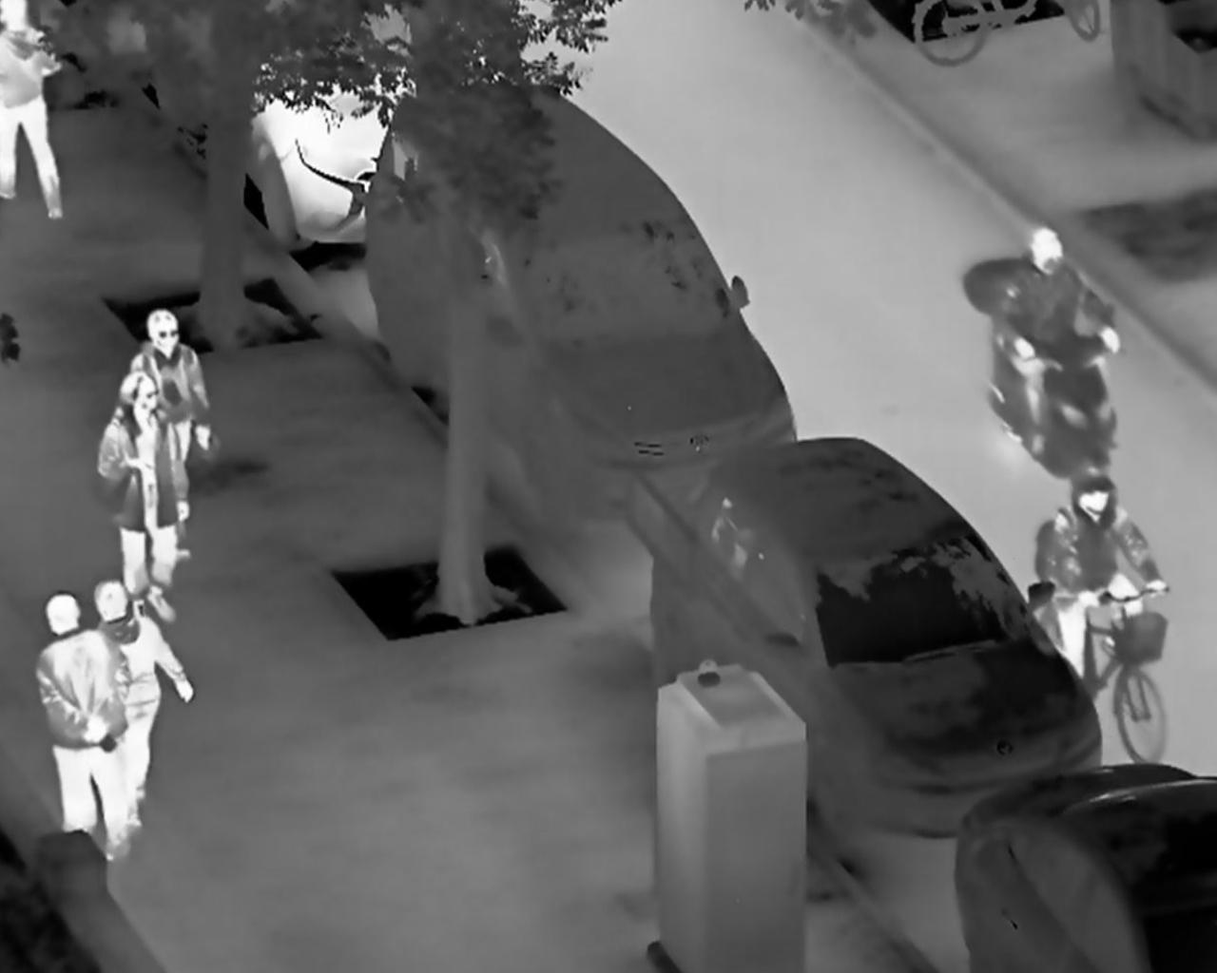person: (991, 224, 1120, 456), (89, 577, 197, 833), (1045, 460, 1170, 678), (34, 590, 131, 863), (93, 372, 182, 625), (129, 308, 215, 471)
